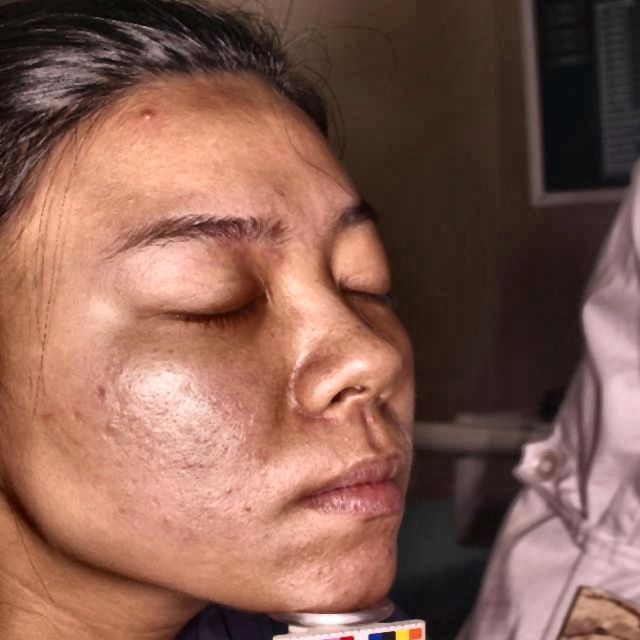comedone: (136, 106, 166, 130)
